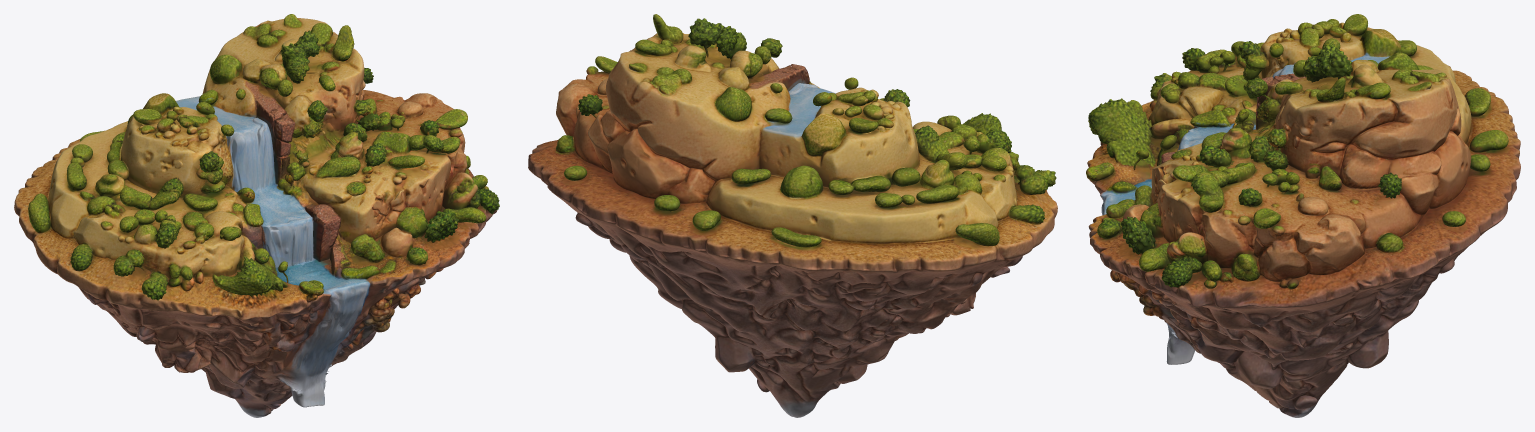
File: 03-landscape-birds.glb
3 renders of one model, left to right at view 1: azimuth 30°, elevation 25°; view 2: azimuth 150°, elevation 25°; view 3: azimuth 270°, elevation 25°, orthographic. The views are drawn at different scales.
Visible parts, largest first — view 1: tripo_node_1f77c117-7582-4d0f-91cd-1afc10127263; view 2: tripo_node_1f77c117-7582-4d0f-91cd-1afc10127263; view 3: tripo_node_1f77c117-7582-4d0f-91cd-1afc10127263.
Part boxes in pixels (left/top/right/bottom): tripo_node_1f77c117-7582-4d0f-91cd-1afc10127263: left=14, top=14, right=499, bottom=417; tripo_node_1f77c117-7582-4d0f-91cd-1afc10127263: left=528, top=14, right=1057, bottom=417; tripo_node_1f77c117-7582-4d0f-91cd-1afc10127263: left=1086, top=14, right=1520, bottom=417.
Size of the model in its own units: 0.5222 by 0.4222 by 0.4125.
1 material, 1 textured.
